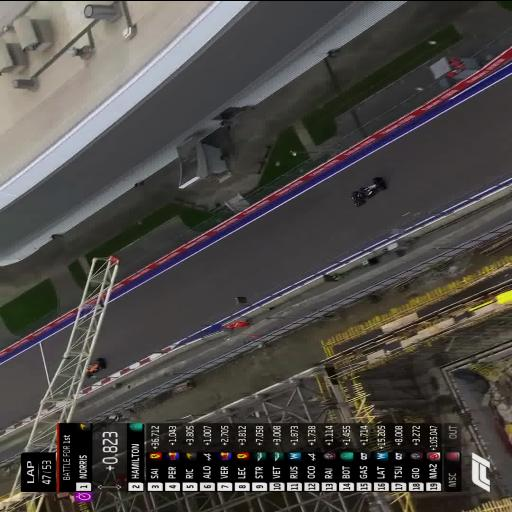f1_car: (351, 177, 385, 206), (85, 358, 105, 377)
